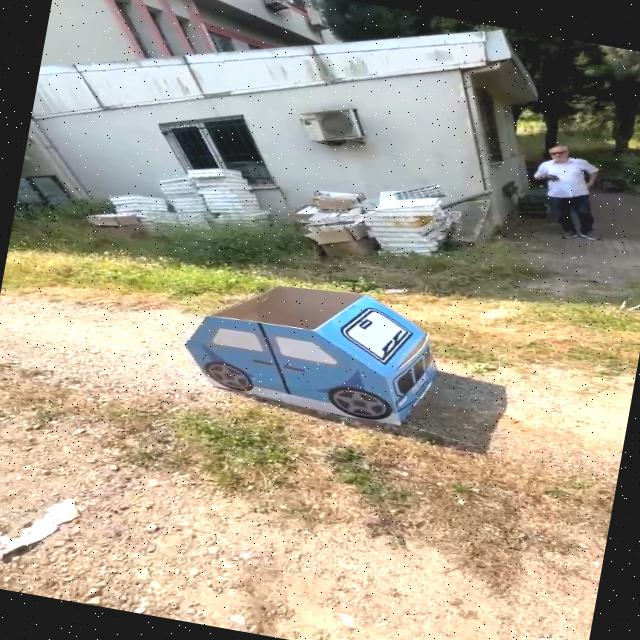blue_car: (134, 239, 493, 452)
